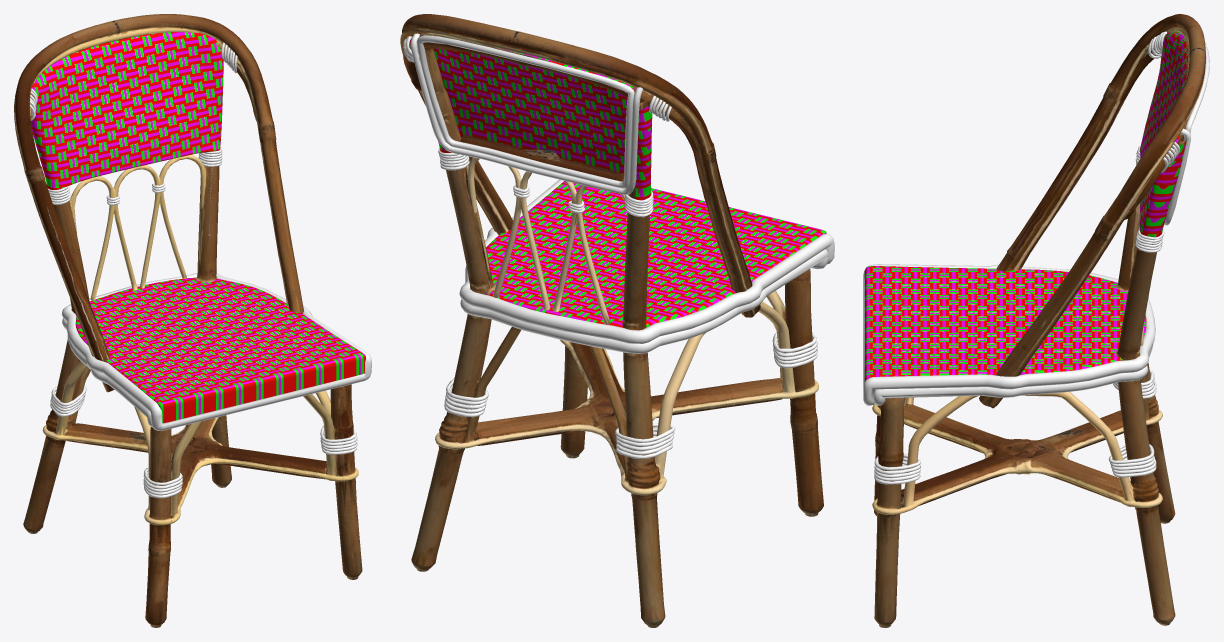
The model's file is bistrot.glb.
3 renders of one model, left to right at view 1: azimuth 30°, elevation 25°; view 2: azimuth 150°, elevation 25°; view 3: azimuth 270°, elevation 25°, orthographic. The views are drawn at different scales.
Visible parts, largest first — view 1: mesh_tressage, mesh_structure, mesh_contour; view 2: mesh_structure, mesh_tressage, mesh_contour; view 3: mesh_structure, mesh_tressage, mesh_contour.
Boxes of the visible parts, <box> form: mesh_tressage: <box>31,32,365,422</box>; mesh_structure: <box>14,14,362,627</box>; mesh_contour: <box>30,42,371,498</box>; mesh_structure: <box>400,14,823,627</box>; mesh_tressage: <box>409,34,826,327</box>; mesh_contour: <box>403,33,834,458</box>; mesh_structure: <box>872,14,1205,627</box>; mesh_tressage: <box>865,31,1206,381</box>; mesh_contour: <box>863,31,1209,484</box>.
Size of the model in its own units: 0.4823 by 0.9002 by 0.5384.
3 materials, 2 textured.
